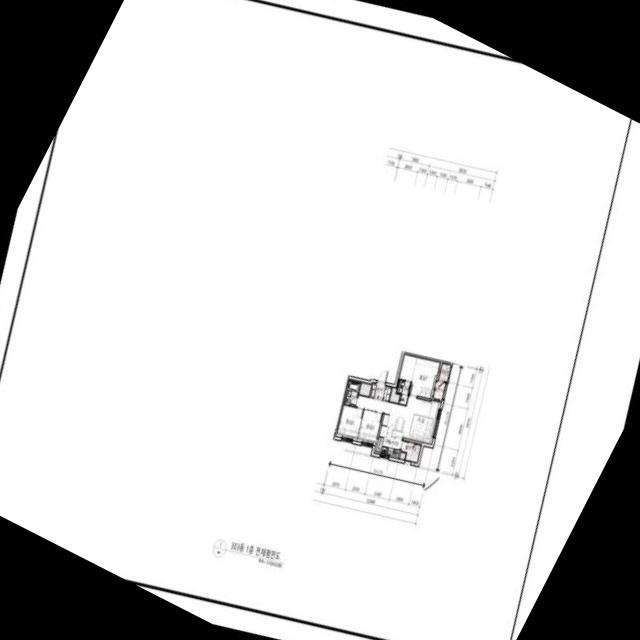background: (0, 0, 640, 640)
space_balconi: (401, 440, 421, 462), (433, 381, 445, 401)
space_bedroom: (399, 354, 440, 398), (336, 405, 363, 440), (357, 409, 382, 445)
space_front: (369, 381, 391, 401)
space_kitchen: (374, 414, 406, 457)
space_living_room: (356, 395, 441, 443)
space_other: (359, 382, 371, 396), (389, 387, 400, 402), (400, 452, 405, 459)
space_outdoor_room: (438, 363, 450, 381)
space_toilet: (344, 381, 360, 406), (397, 380, 410, 404)
